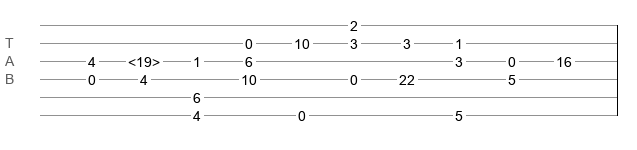0: (88, 72, 96, 82), (245, 36, 253, 46), (298, 108, 306, 118), (350, 72, 358, 82), (508, 54, 516, 64)
1: (193, 54, 201, 64), (455, 36, 463, 46)
10: (241, 72, 257, 82), (294, 36, 310, 46)
16: (556, 54, 572, 64)
2: (350, 18, 358, 28)
22: (399, 72, 415, 82)
3: (350, 36, 358, 46), (403, 36, 411, 46), (455, 54, 463, 64)
4: (88, 54, 96, 64), (140, 72, 148, 82), (193, 108, 201, 118)
5: (455, 108, 463, 118), (508, 72, 516, 82)
6: (193, 90, 201, 100), (245, 54, 253, 64)
harmonic: (128, 54, 160, 64)
